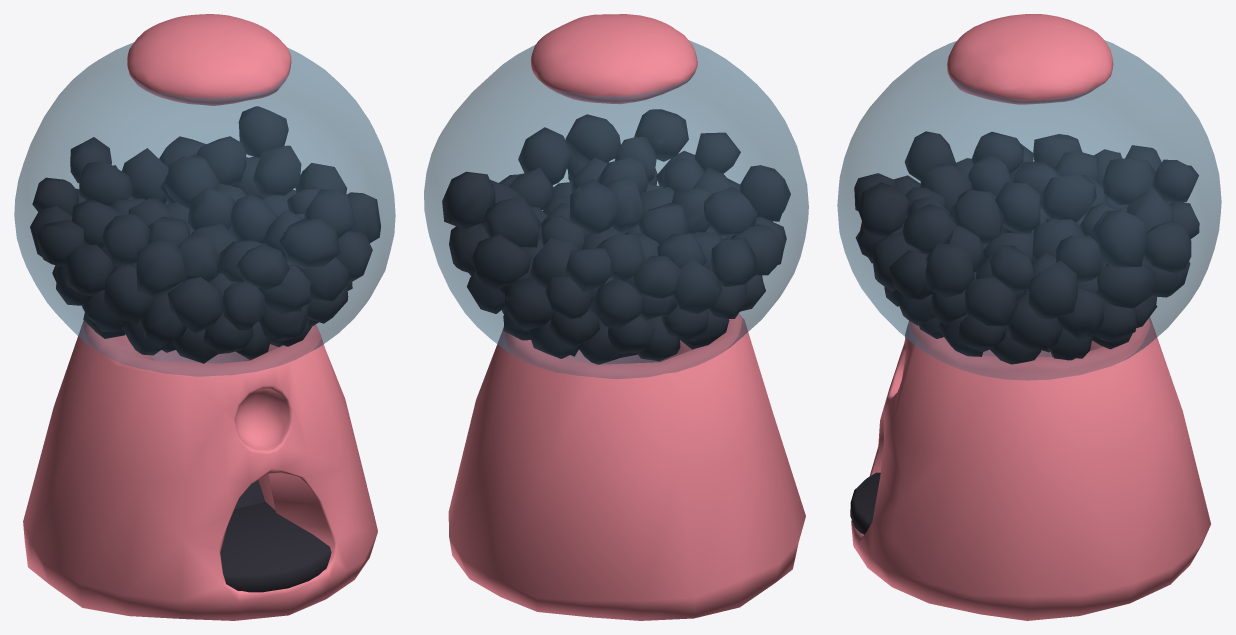
The model's file is dispenser.fbx.
3 views of the same model, side by side, from view 1: azimuth 30°, elevation 25°; view 2: azimuth 150°, elevation 25°; view 3: azimuth 270°, elevation 25° (orthographic).
Parts seen in each view (by area): view 1: globe, base, pellets, chute; view 2: globe, base, pellets; view 3: globe, base, pellets, chute.
Boxes of the visible parts, x1,y1,x2,y2 form: globe: (14, 42, 395, 376); base: (23, 14, 377, 620); pellets: (30, 106, 380, 363); chute: (220, 480, 331, 592); globe: (424, 40, 808, 378); base: (448, 14, 805, 620); pellets: (442, 109, 790, 364); globe: (837, 40, 1221, 380); base: (851, 14, 1210, 620); pellets: (854, 131, 1199, 364); chute: (850, 472, 880, 534).
Bounding box in the file's own units: 206 × 309 × 205.
